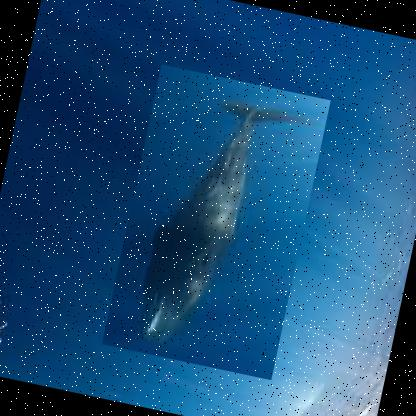blue_whale: (100, 63, 330, 380)
